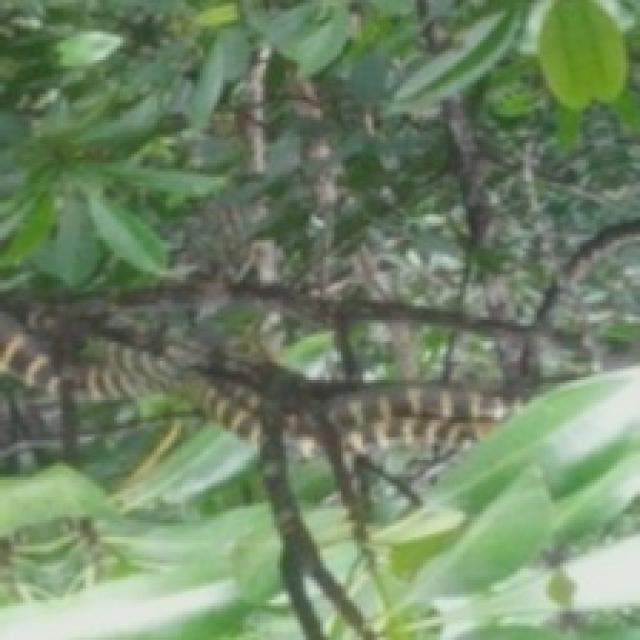mangrove cat snake: (0, 291, 531, 471)
